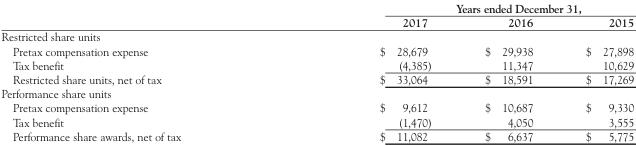table: (0, 0, 633, 142)
table column: (0, 0, 279, 142), (279, 0, 457, 142), (457, 0, 558, 142), (558, 0, 633, 142)
table column header: (0, 0, 633, 29)
table projected row header: (0, 85, 633, 100), (0, 29, 633, 43)
table row: (0, 14, 633, 29), (0, 85, 633, 100), (0, 0, 633, 14), (0, 29, 633, 43), (0, 43, 633, 57), (0, 57, 633, 71), (0, 71, 633, 85), (0, 100, 633, 114), (0, 114, 633, 128), (0, 128, 633, 142)
table spanning cell: (279, 0, 633, 14)
